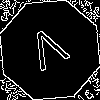V: (25, 25, 75, 81)
